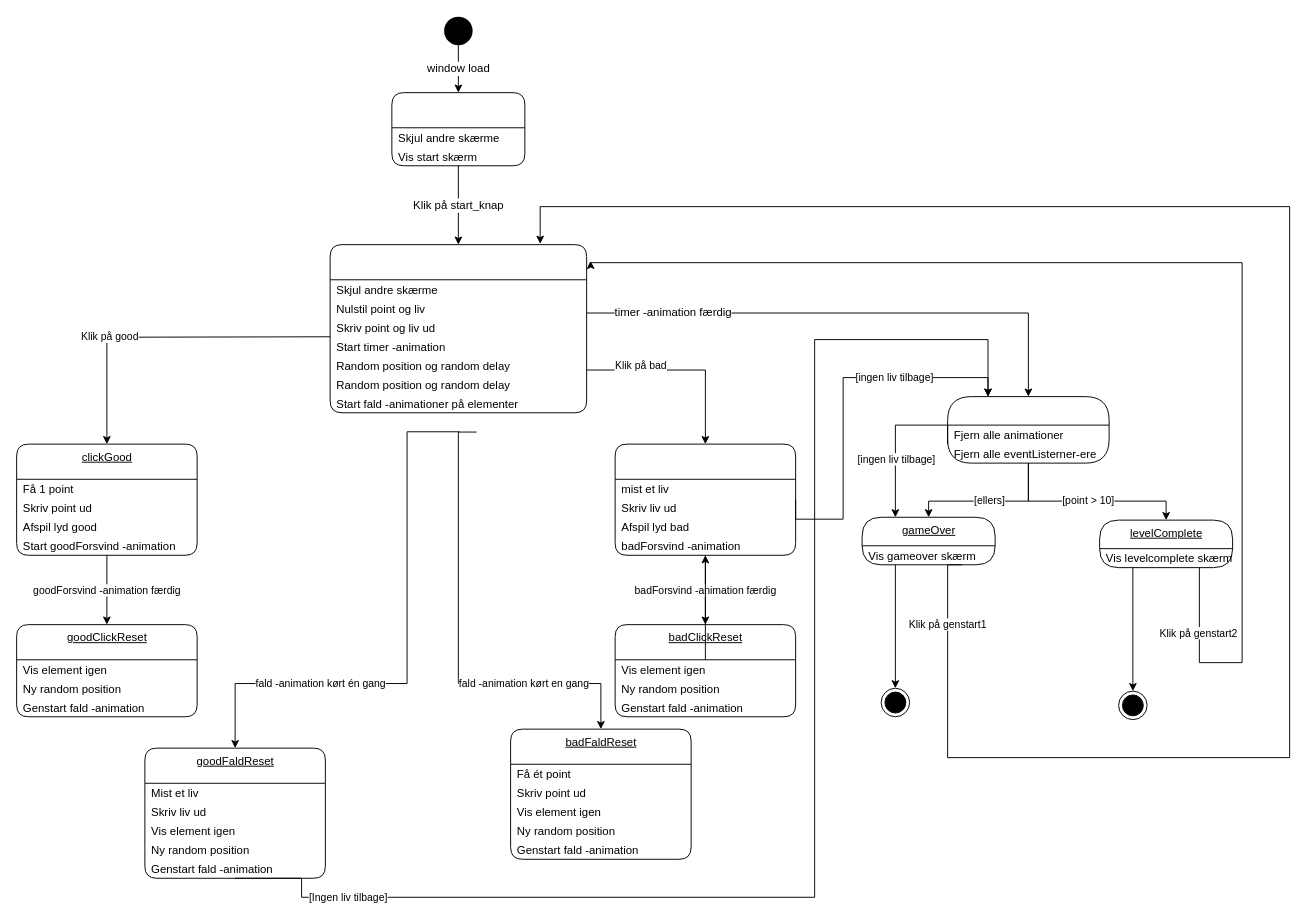
The diagram is 1314 pixels wide and 922 high, and some of its shapes have lost their labels. The box of each missing label's shape, as (x1, y1, x2, y2) in pixels:
clickBad: (614, 443, 796, 555)
sidenVises: (391, 92, 525, 166)
startSpillet: (329, 244, 587, 413)
stopSpillet: (947, 396, 1109, 463)
